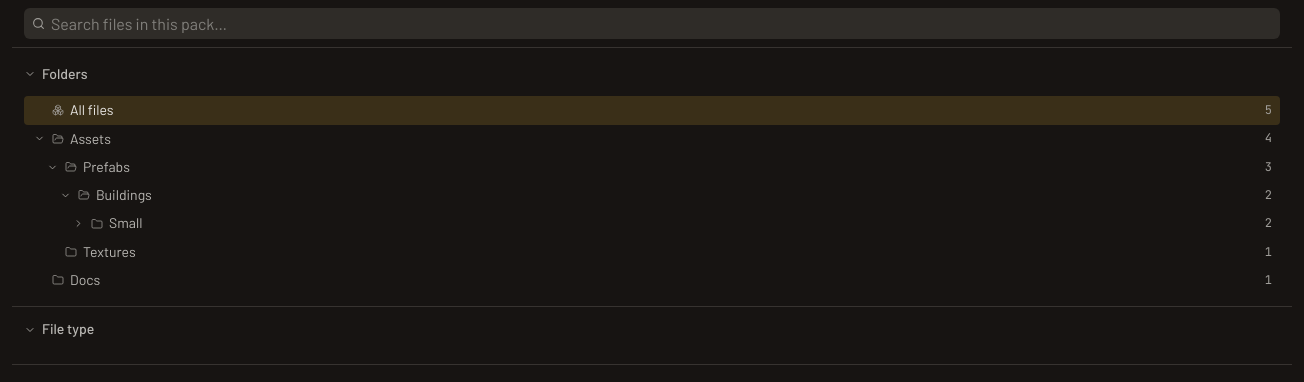
it: FileTreeSidebar › collapses a subtree from the caret without navigating
Click the 2nd button named "Collapse folder": click(52, 167) [45,160,59,174]
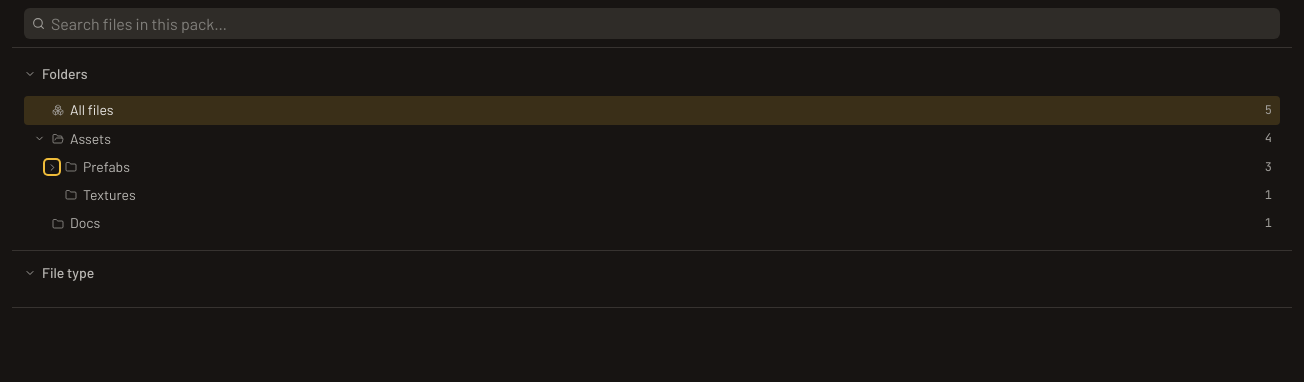
Check: the button named "Expand folder" is collapsed, box [45,160,59,174]
